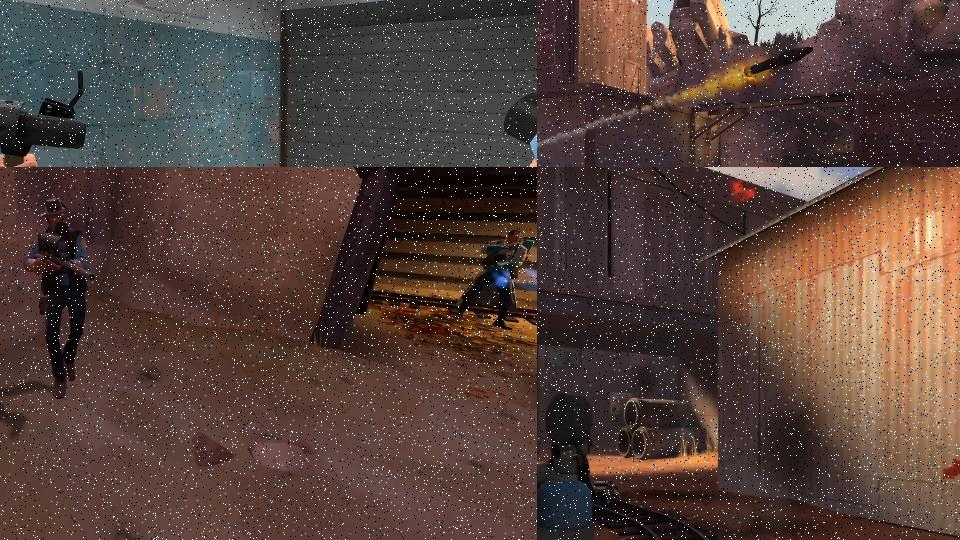Enemy: (16, 190, 111, 404), (450, 222, 536, 340)
